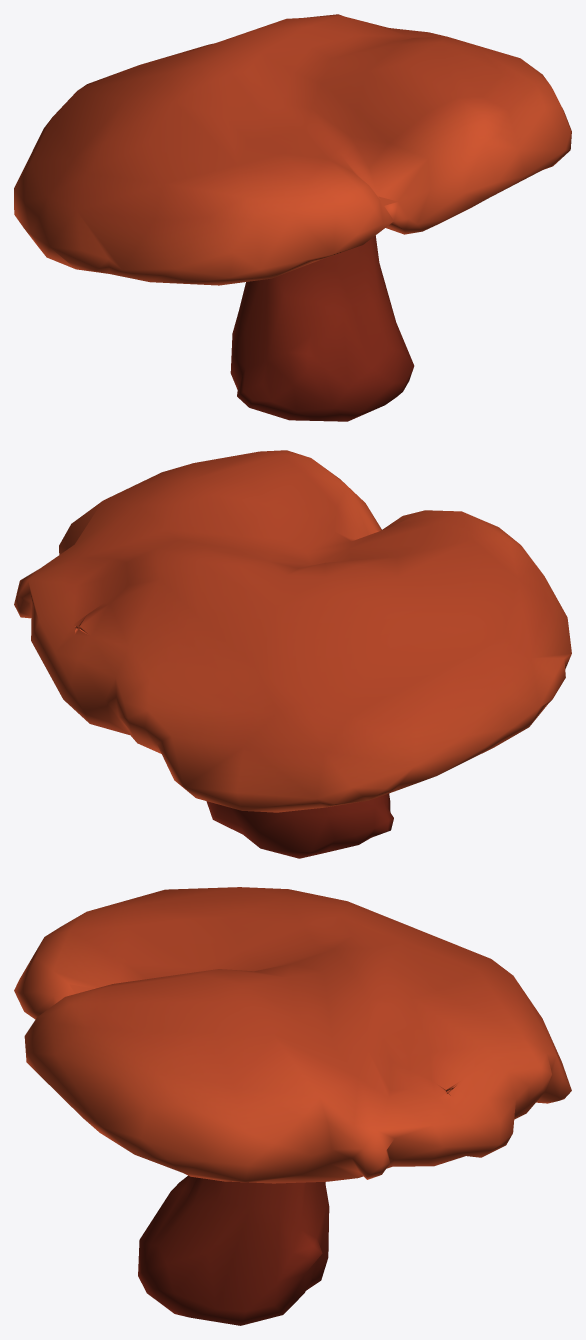
File: Mushroom2.fbx
3 renders of one model, top to bottom at view 1: azimuth 30°, elevation 25°; view 2: azimuth 150°, elevation 25°; view 3: azimuth 270°, elevation 25°, orthographic. The views are drawn at different scales.
Parts seen in each view (by area): view 1: mushroom_06; view 2: mushroom_06; view 3: mushroom_06.
Part boxes in pixels (x1,y1,x2,y2): mushroom_06: [14, 14, 571, 421]; mushroom_06: [14, 450, 571, 858]; mushroom_06: [14, 887, 571, 1325].
Bounding box in the file's own units: 84.67 × 53 × 76.32.
